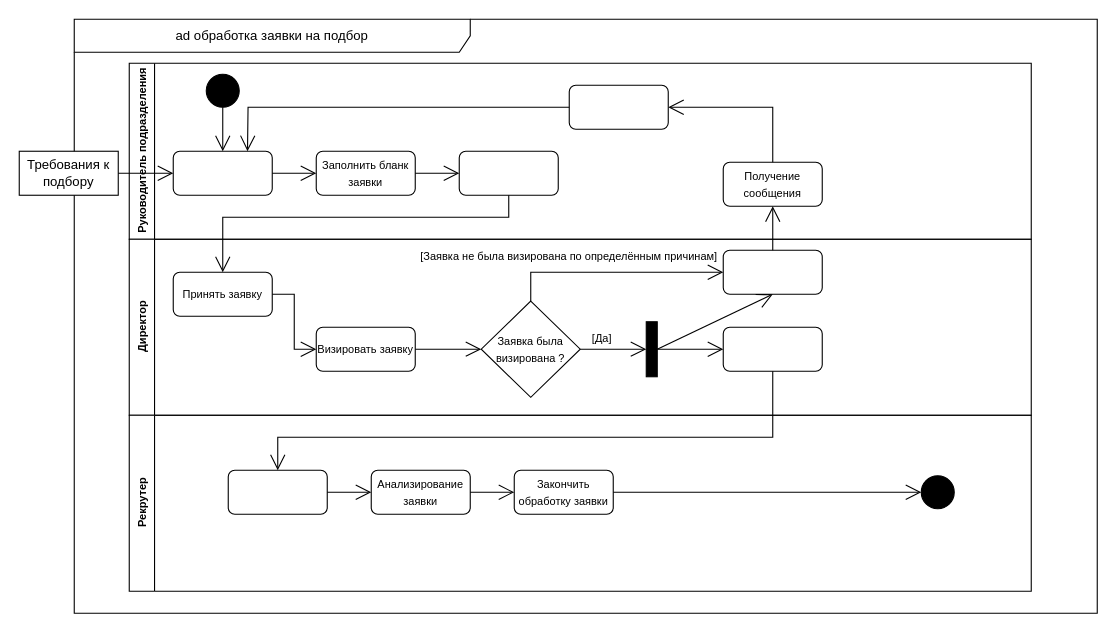
Some shapes in this 1117 by 633 pixel diagram are drawn without their labels. Each missing label, with the centre of its shape:
Исправление бланка заявки: (x=618, y=106)
Отправка бланка директору: (x=508, y=172)
Отправка заявку рекрутеру: (x=772, y=348)
Отправка соответствующего сообщения: (x=772, y=271)
Получение заявки: (x=277, y=491)
Создать заявку: (x=222, y=172)
